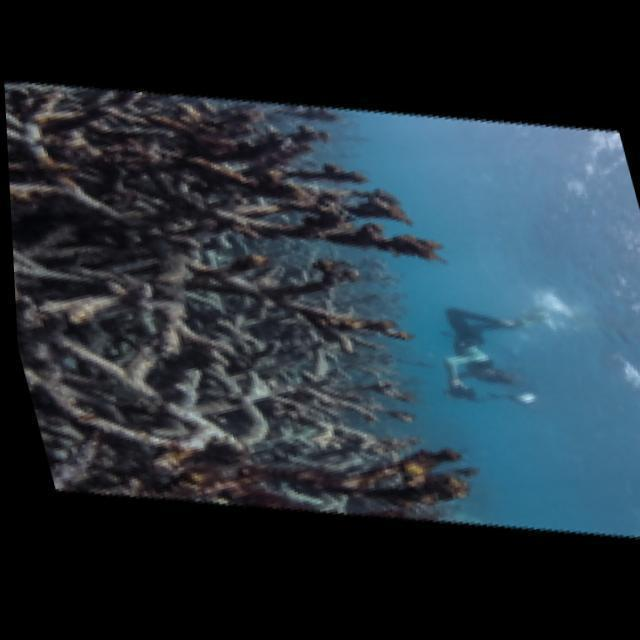Dead Coral: (34, 41, 456, 386), (105, 359, 522, 592)
